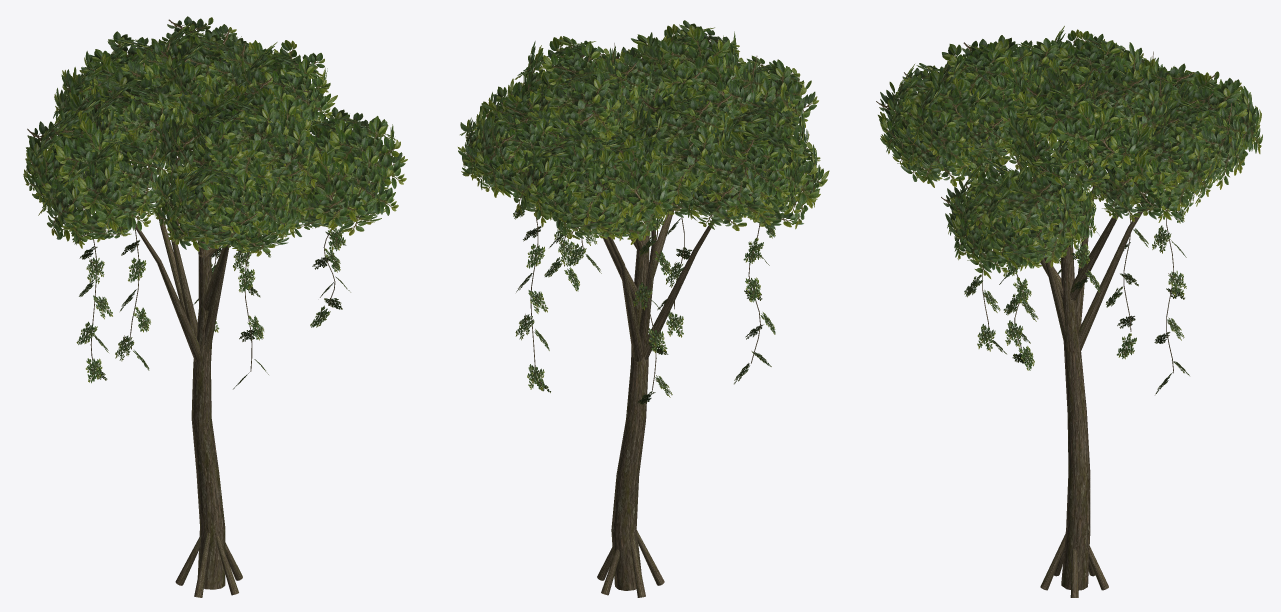
File: tree_02.glb
3 views of the same model, side by side, from view 1: azimuth 30°, elevation 25°; view 2: azimuth 150°, elevation 25°; view 3: azimuth 270°, elevation 25° (orthographic).
Visible parts, largest first — view 1: tree_02; view 2: tree_02; view 3: tree_02.
Boxes of the visible parts, box(x1,y1,x2,y2) form: tree_02: box(23, 16, 407, 597); tree_02: box(458, 20, 829, 597); tree_02: box(876, 26, 1262, 597).
Size of the model in its own units: 8.97 by 12.59 by 8.56.
Materials: 2 (2 with a texture image).
